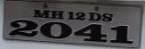character: (72, 23, 107, 42), (39, 20, 72, 39), (8, 18, 39, 36), (109, 24, 133, 43), (32, 8, 49, 18), (87, 11, 101, 22), (50, 9, 64, 19), (100, 11, 112, 22), (74, 11, 85, 20), (66, 9, 74, 21)
